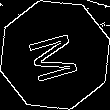M_E: (24, 26, 86, 84)
